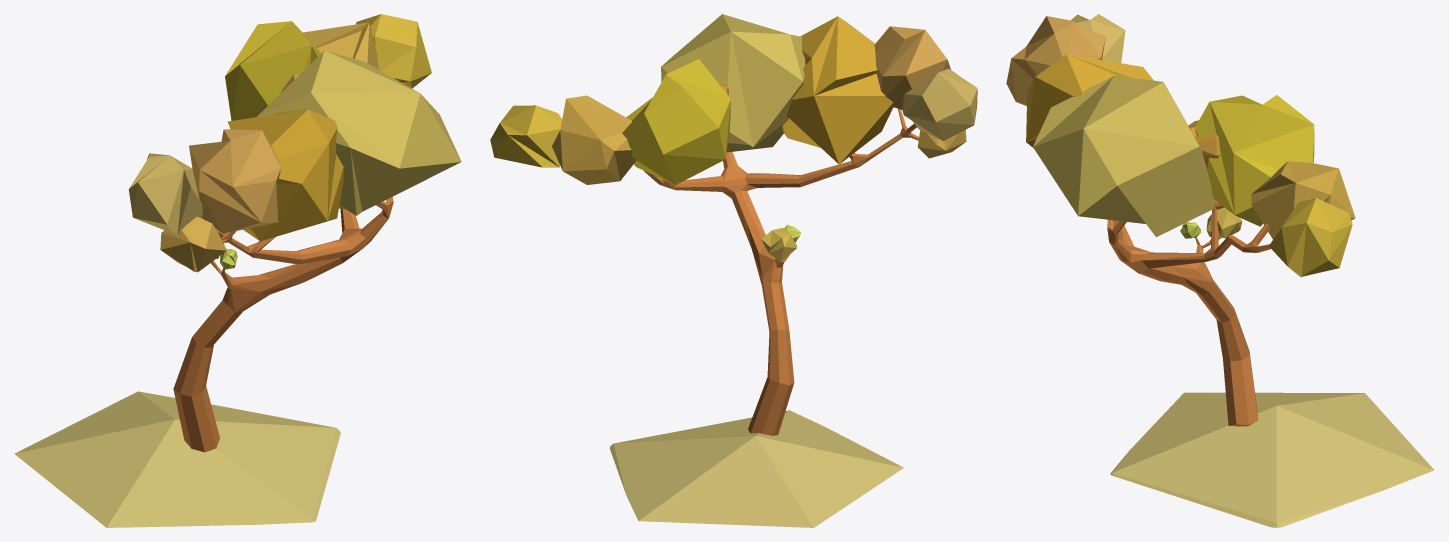
The model's file is Tree1.fbx.
The picture shows the model from 3 angles, left to right: view 1: azimuth 30°, elevation 25°; view 2: azimuth 150°, elevation 25°; view 3: azimuth 270°, elevation 25°; orthographic projection. The views are drawn at different scales.
Parts seen in each view (by area): view 1: Tree1; view 2: Tree1; view 3: Tree1.
Boxes of the visible parts, left/top/right/bottom form: Tree1: left=14, top=14, right=461, bottom=527; Tree1: left=490, top=14, right=977, bottom=527; Tree1: left=1006, top=14, right=1434, bottom=527.
Size of the model in its own units: 369 by 374 by 352.
